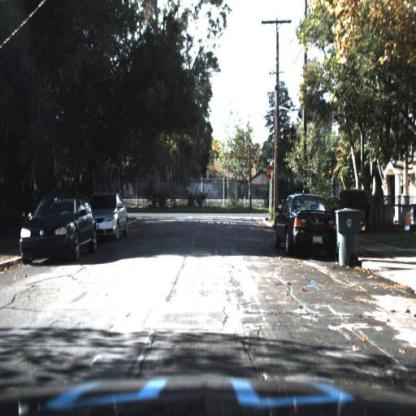car: (21, 197, 103, 267), (274, 192, 341, 264), (97, 188, 130, 246), (90, 195, 130, 235)
